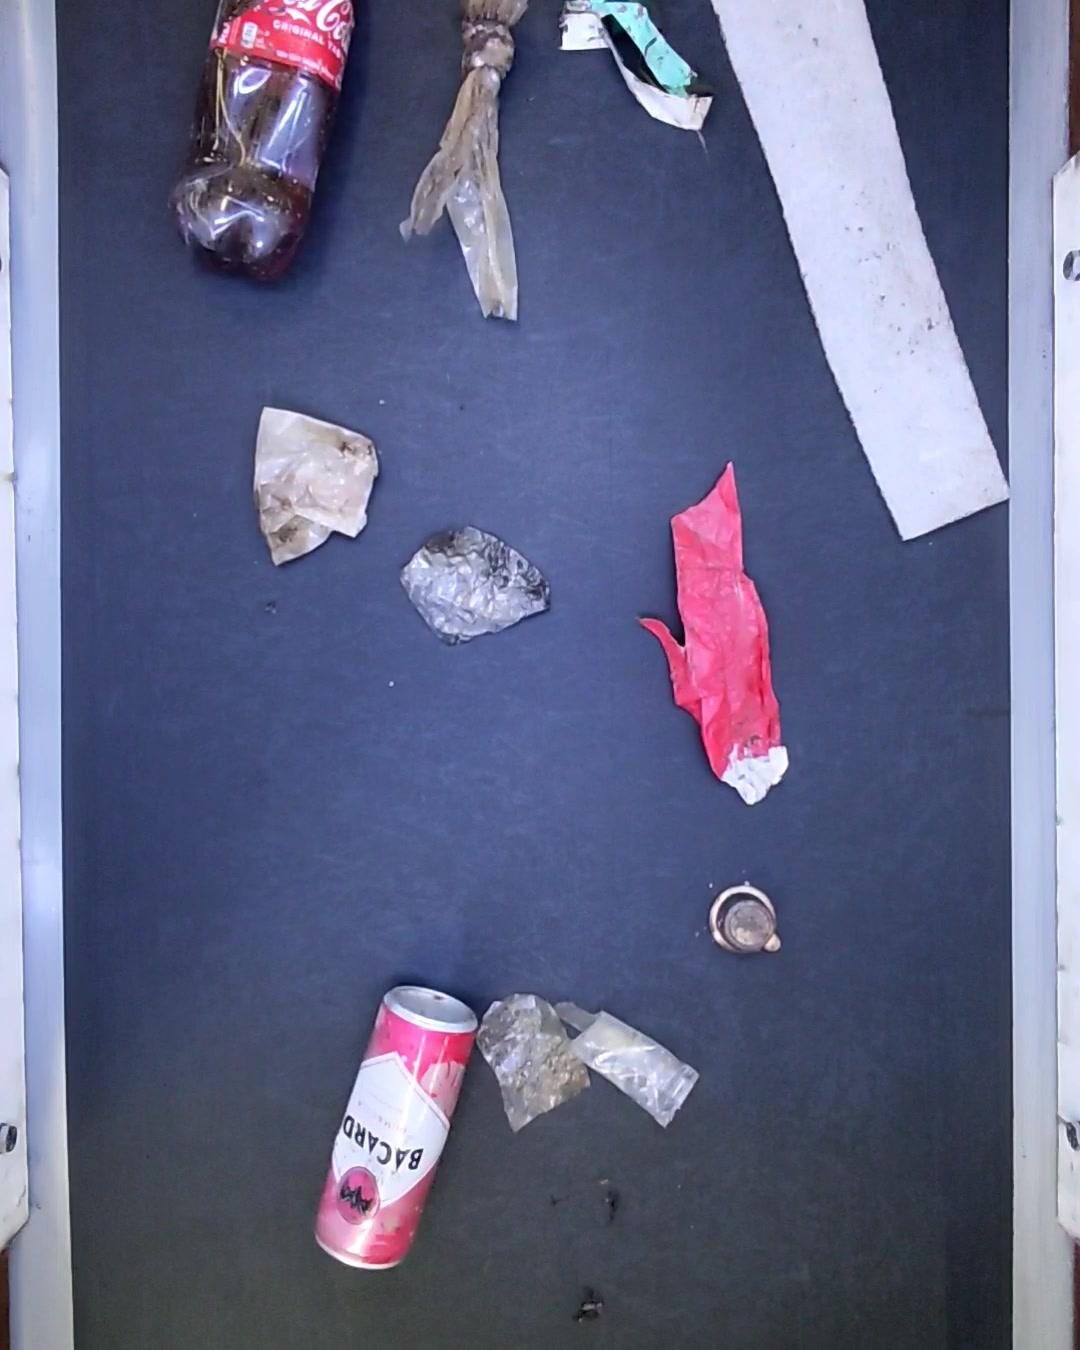Drankblikjes: (311, 983, 483, 1273)
Drankflessen - 1-2 liter: (173, 0, 355, 291)
Plastic folies of stukken daarvan 2.5- 50 cm: (401, 0, 538, 343), (250, 406, 380, 570), (561, 990, 705, 1131), (476, 993, 591, 1135), (708, 884, 782, 955)
